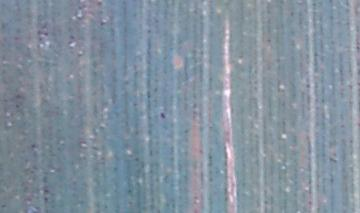tarspot: (159, 112, 167, 120)
